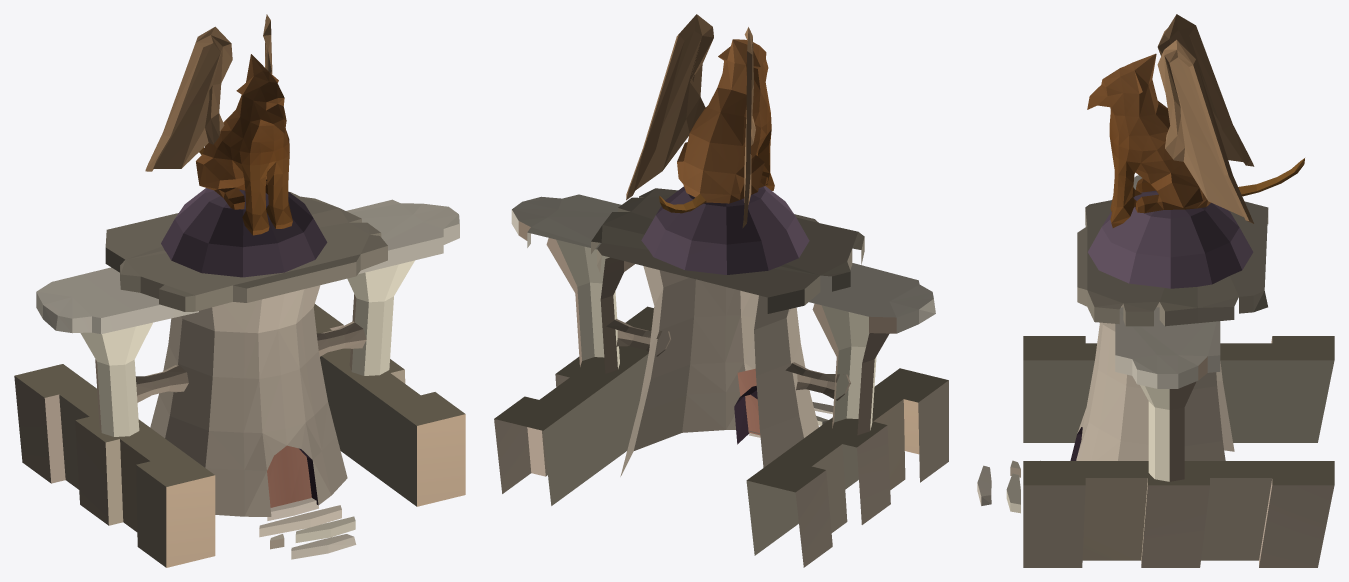
File: castle15.fbx
The picture shows the model from 3 angles, left to right: view 1: azimuth 30°, elevation 25°; view 2: azimuth 150°, elevation 25°; view 3: azimuth 270°, elevation 25°; orthographic projection. The views are drawn at different scales.
Parts seen in each view (by area): view 1: castle15; view 2: castle15; view 3: castle15.
Boxes of the visible parts, x1,y1,x2,y2 form: castle15: (14,14,465,567); castle15: (494,14,948,567); castle15: (977,14,1334,567).
Size of the model in its own units: 2.83 by 3.05 by 2.1.
1 material, 1 textured.
